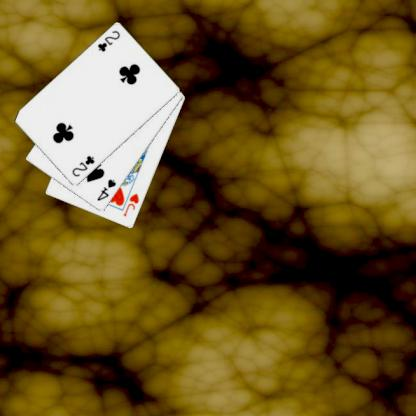2C: (69, 153, 96, 178), (95, 28, 121, 53)
4S: (94, 176, 118, 202)
JH: (120, 191, 141, 218)
